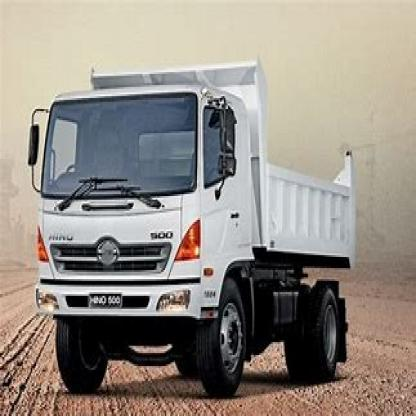dump_truck: (18, 50, 367, 405)
